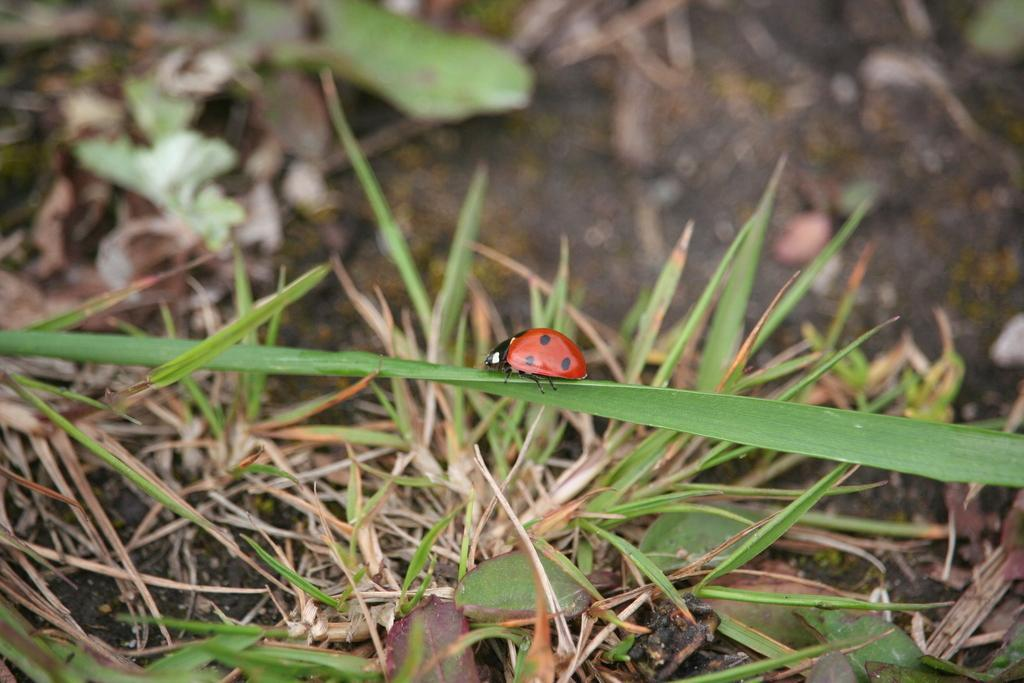ladybug: (483, 325, 595, 397)
